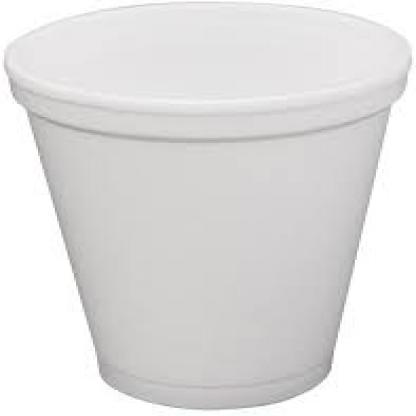paper: (2, 0, 408, 405)
